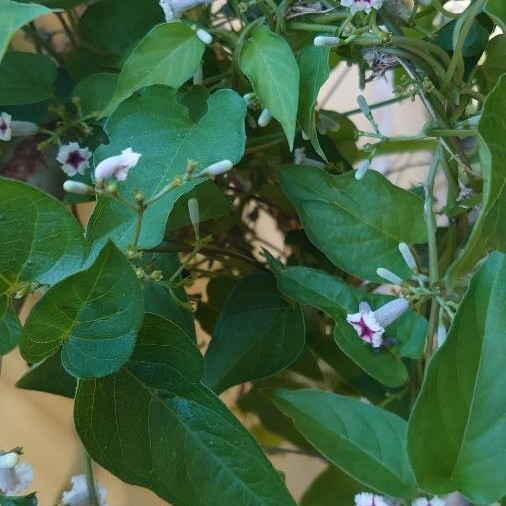obstacle: (36, 56, 425, 476)
